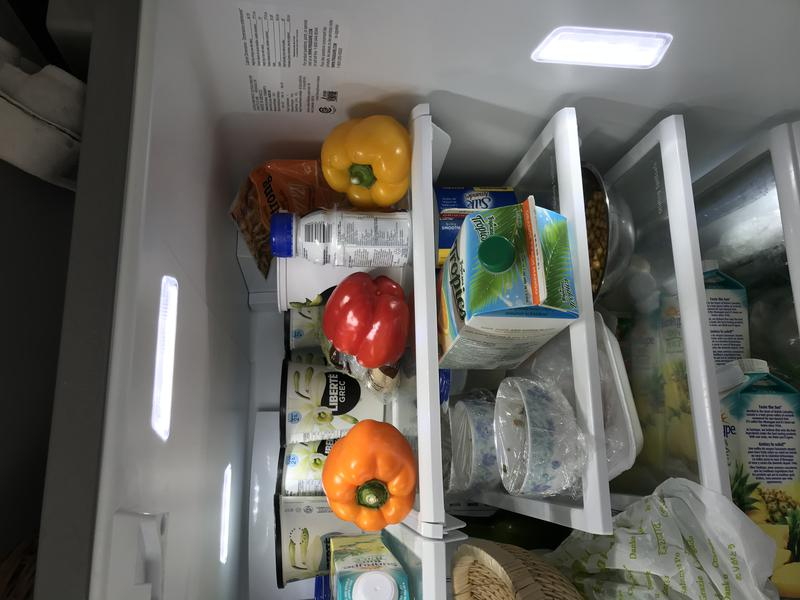orange_pepper: (321, 410, 425, 538)
red_pepper: (321, 268, 412, 375)
yellow_pepper: (316, 106, 419, 211)
